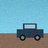vehicle: (17, 24, 43, 41)
